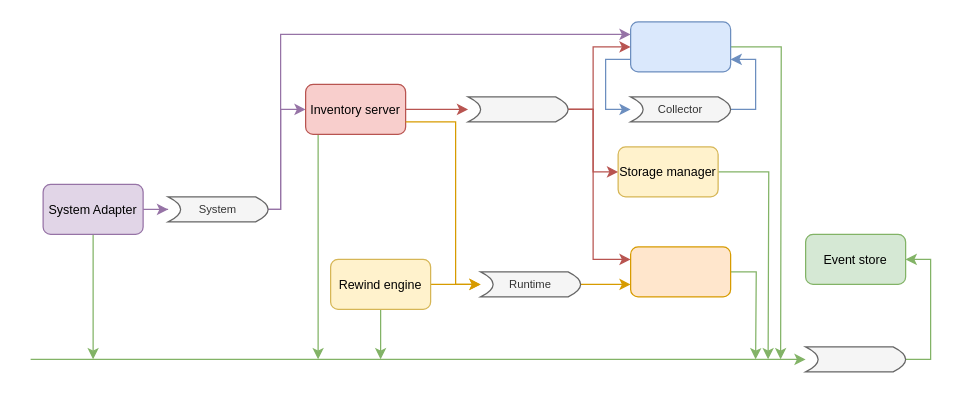
Image size: 963x394. Some labels were removed from this diagram. The centre of each missing label's shape, as x and y in pixels:
"Data collector" belongs at pixel 680 46.
"Event" belongs at pixel 855 359.
"Inventory" belongs at pixel 517 109.
"Portfolio trader" belongs at pixel 680 271.
